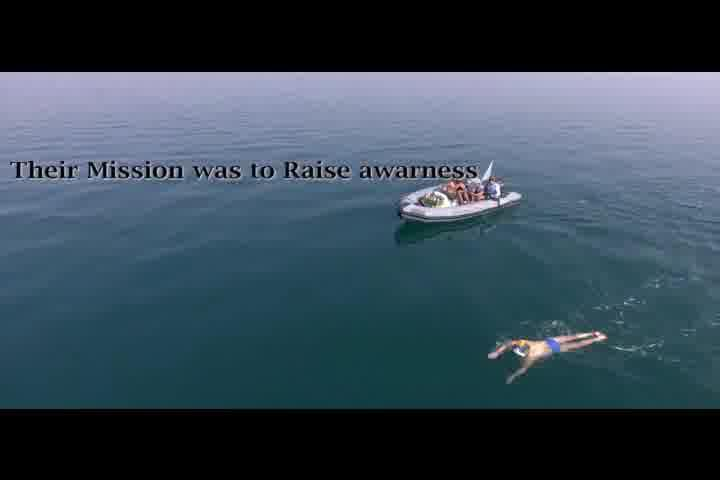human: (487, 322, 609, 388)
